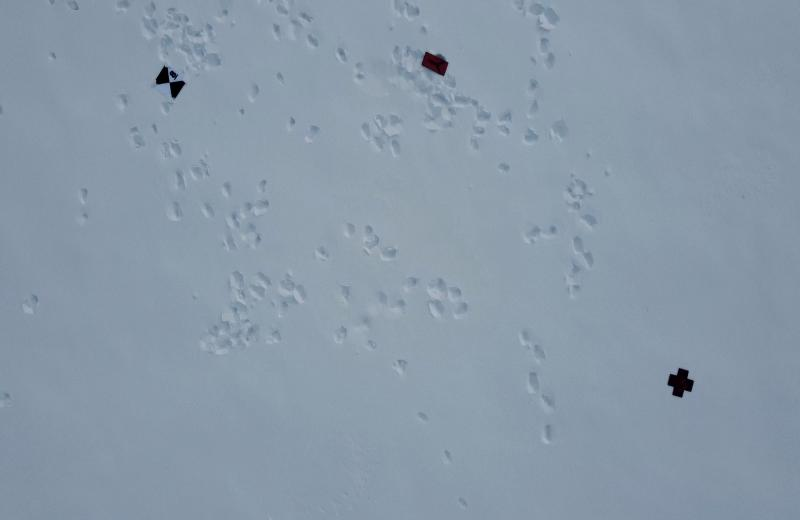Cross: (665, 362, 695, 399)
Rectangle: (420, 48, 453, 78)
